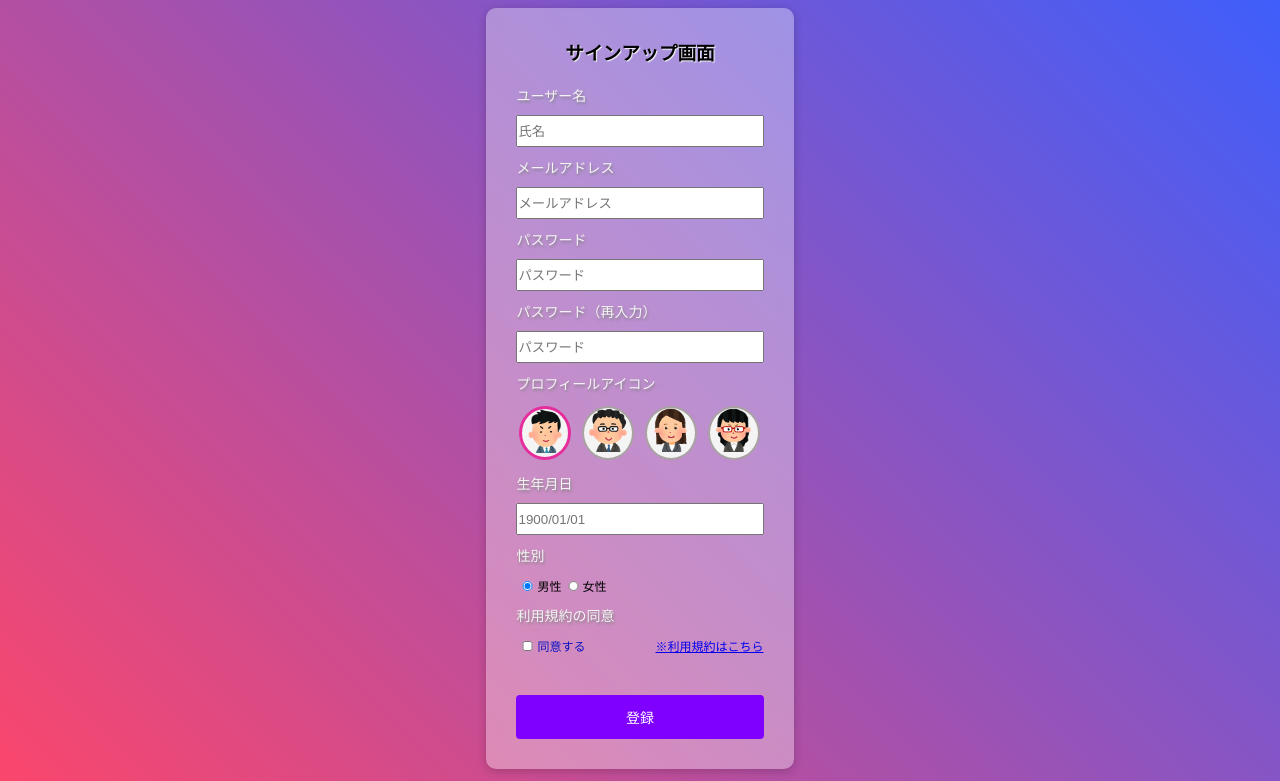
Test: バリデートチェックのテスト › バリデート必須チェック（ユーザー名）
The width and height of the screenshot is (1280, 781).
Click the button "登録": (640, 717) [516,695,764,739]
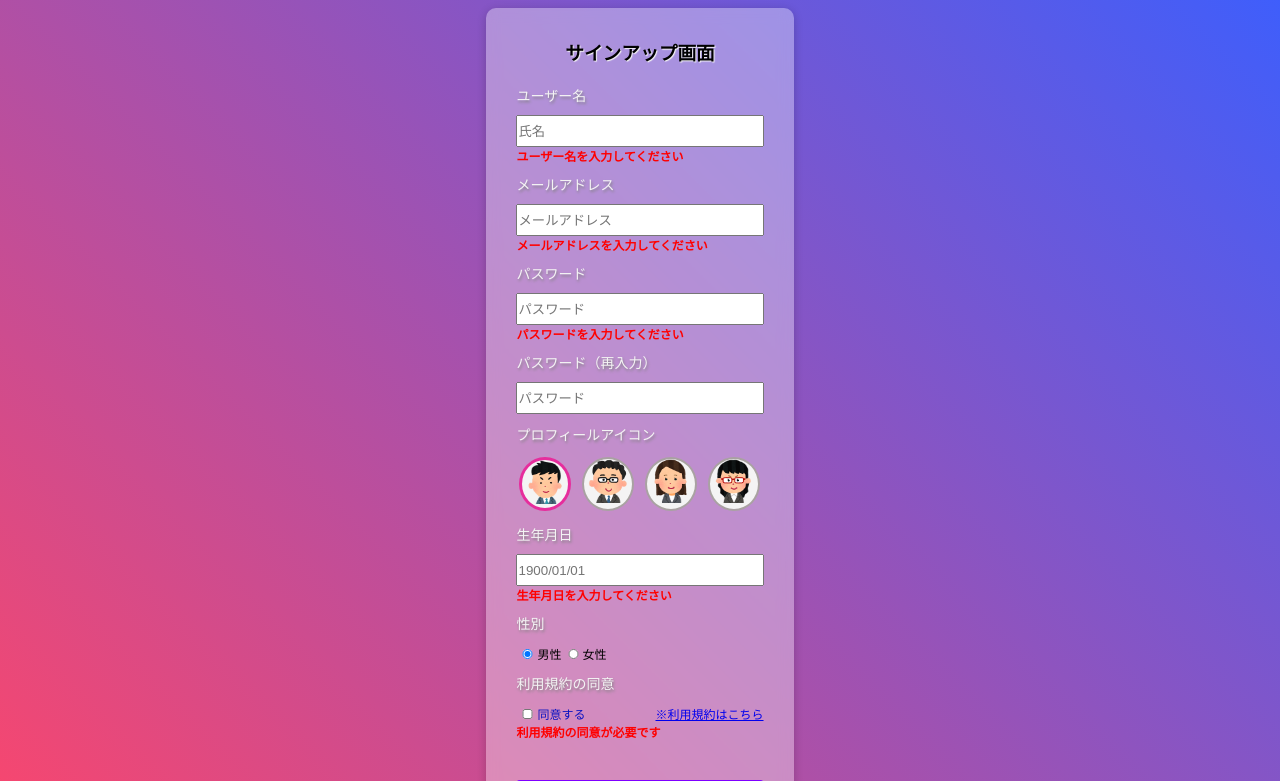
Now the text "ユーザー名を入力してください" is shown, box [516,149,684,164]
